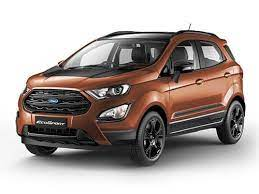Ford: (15, 30, 245, 165)
